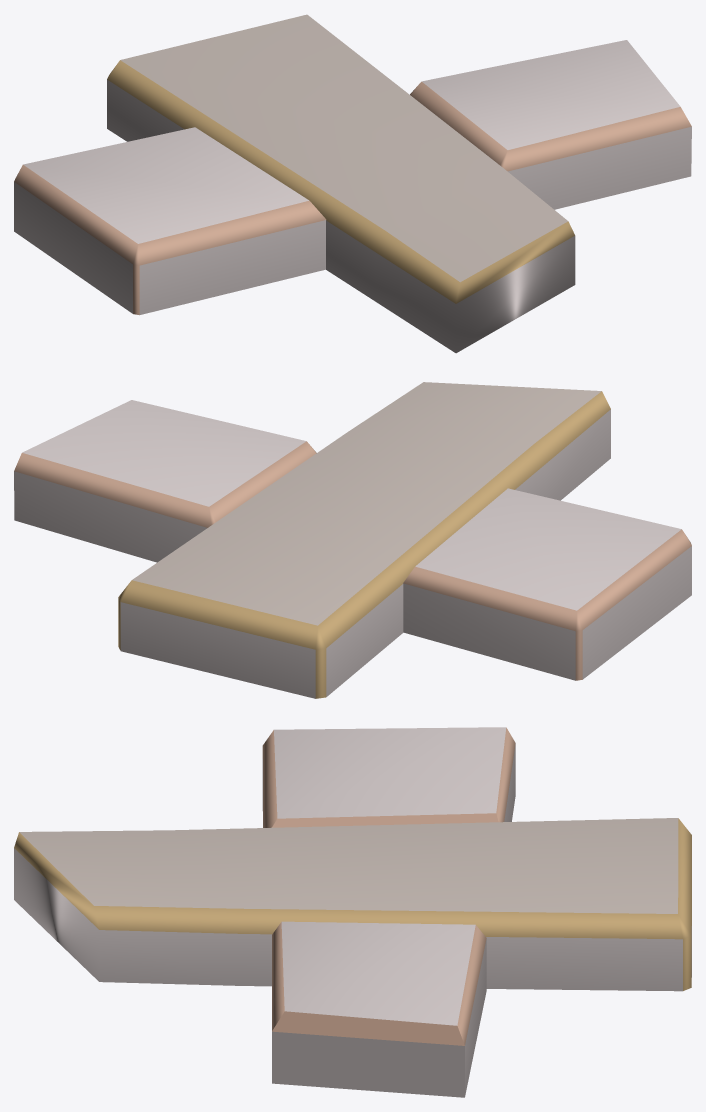
The model's file is boardsX.glb.
3 views of the same model, one above another, from view 1: azimuth 30°, elevation 25°; view 2: azimuth 150°, elevation 25°; view 3: azimuth 270°, elevation 25° (orthographic). The views are drawn at different scales.
Parts seen in each view (by area): view 1: boardsX; view 2: boardsX; view 3: boardsX.
Boxes of the visible parts, <box> form: boardsX: <box>14,14,691,353</box>; boardsX: <box>14,382,691,698</box>; boardsX: <box>14,727,691,1097</box>.
Bounding box in the file's own units: 0.9752 × 0.1066 × 0.9172.
